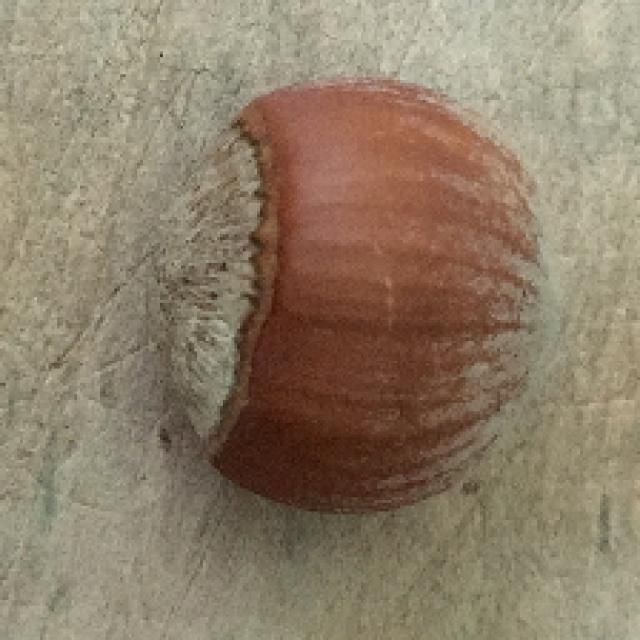qualityHazelnut: (143, 78, 568, 520)
